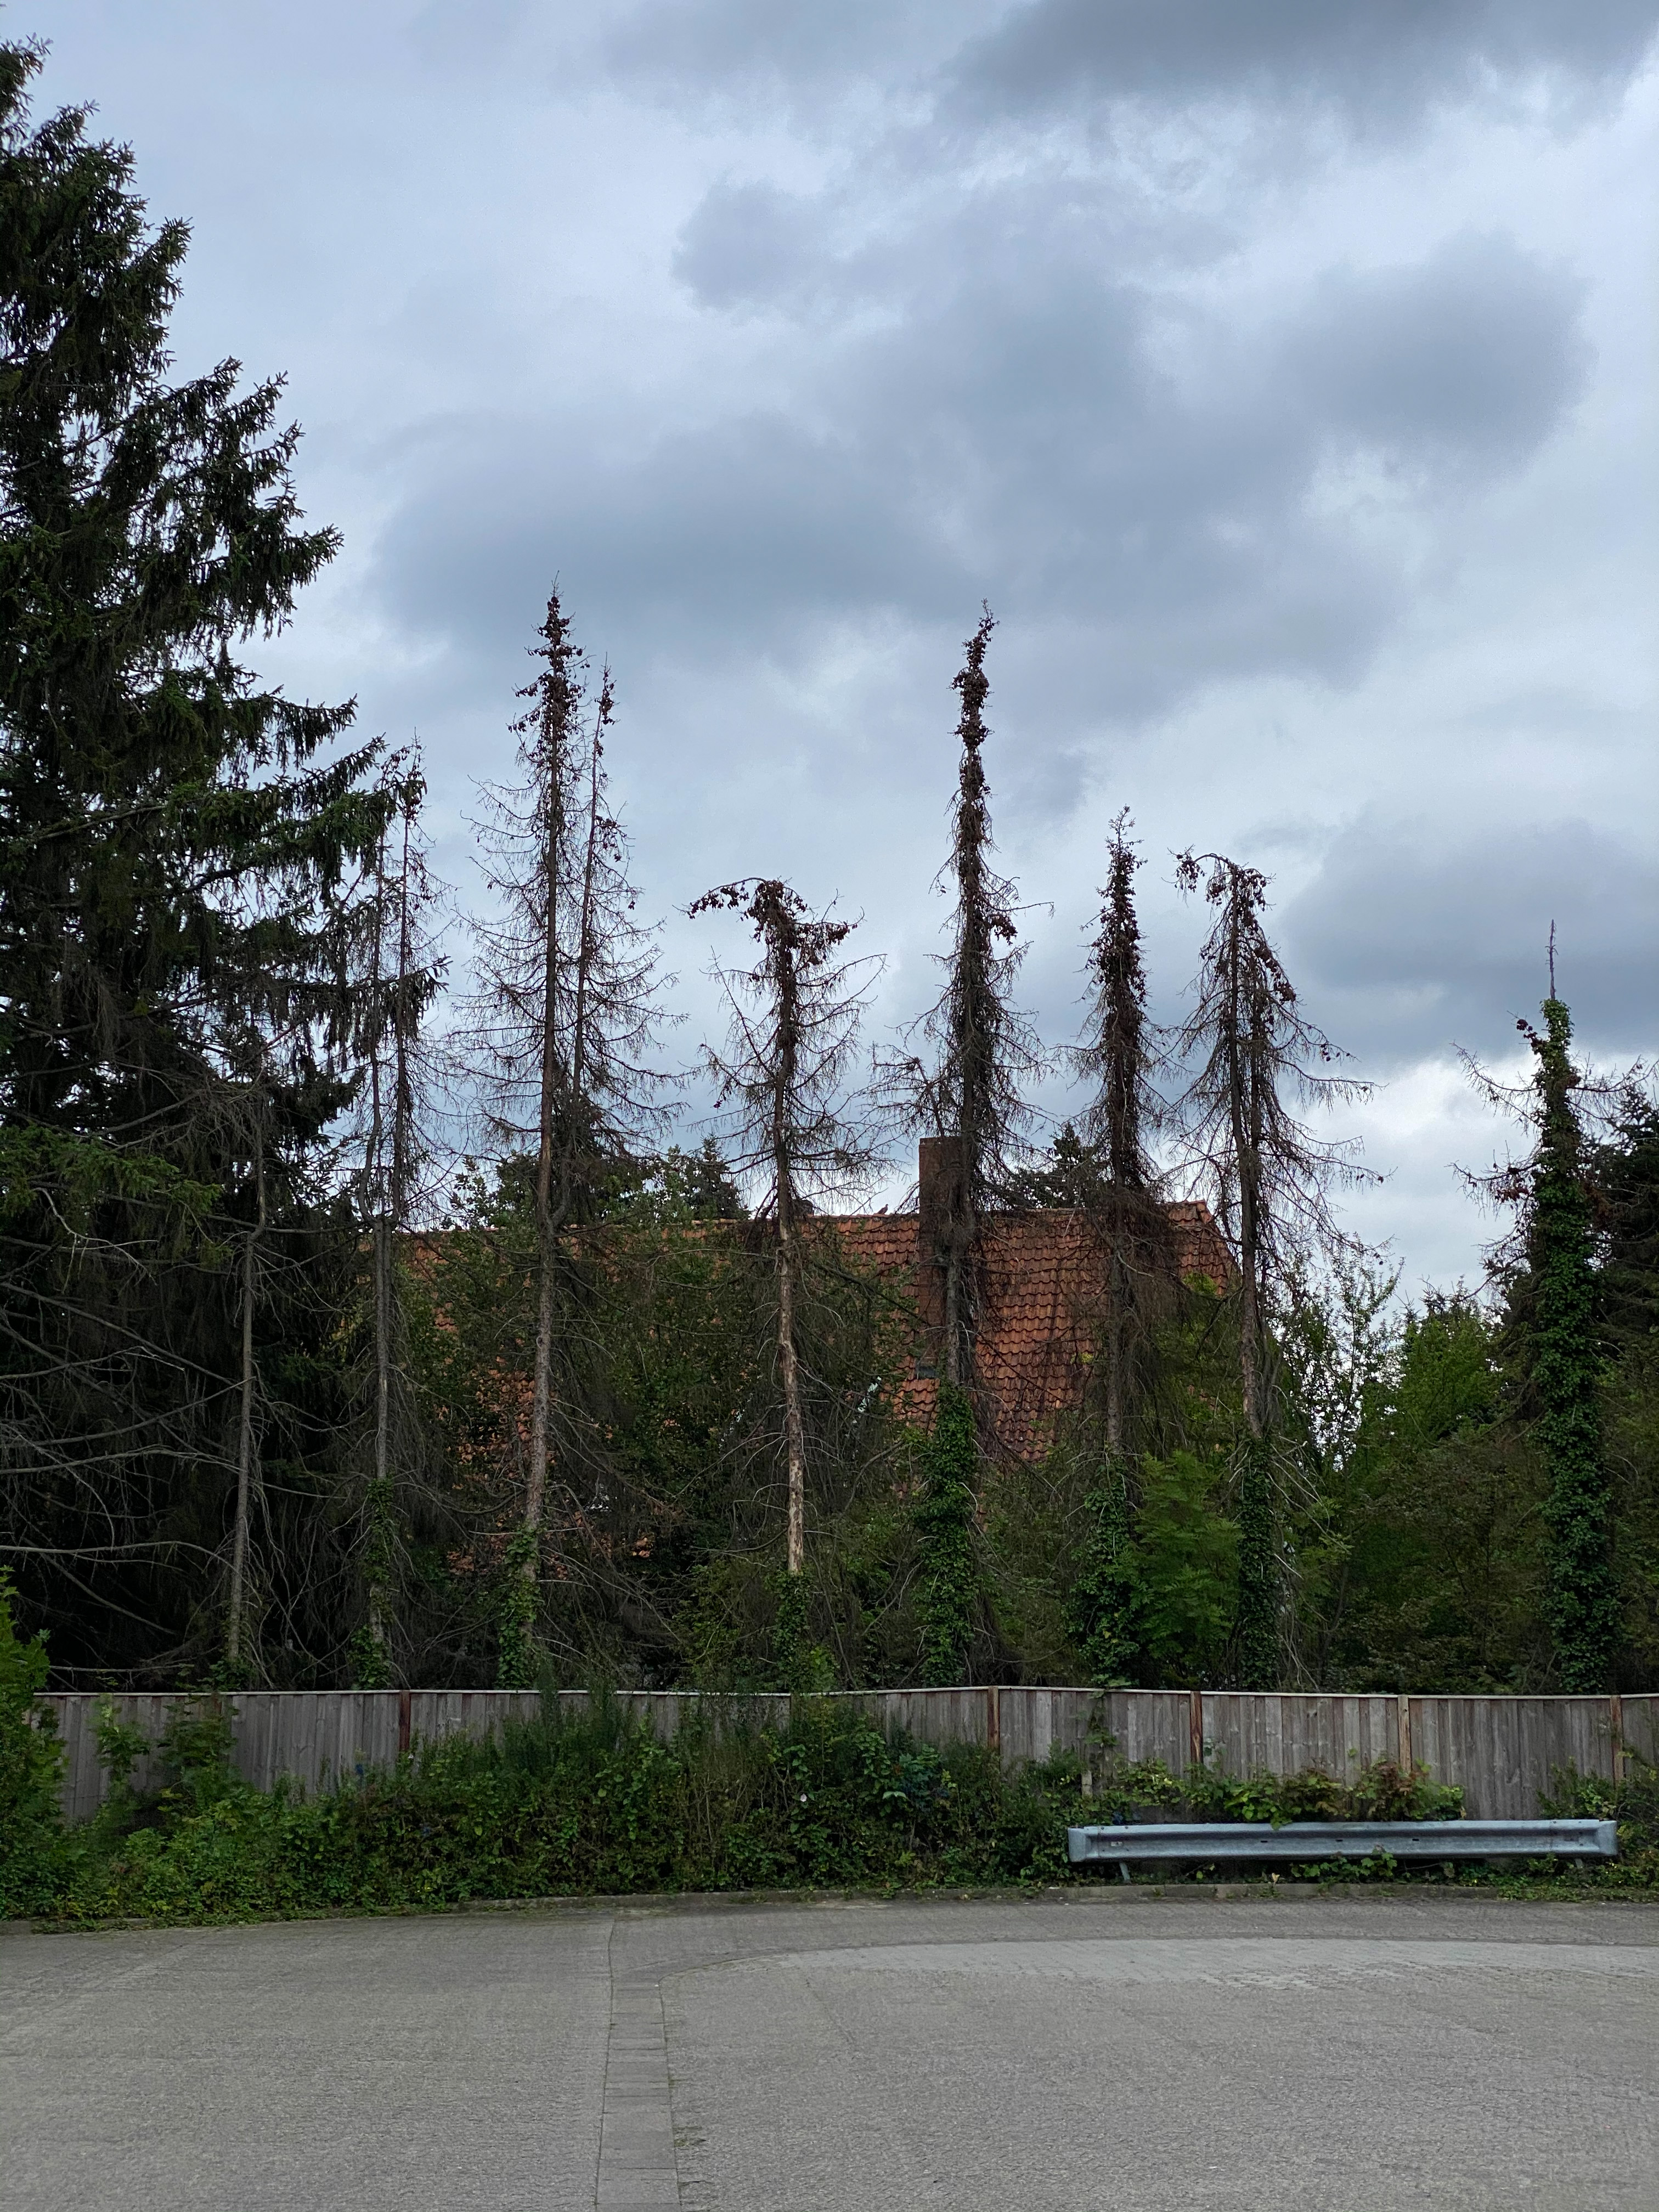tree: (0, 31, 448, 1691), (427, 1052, 934, 1663), (446, 571, 692, 1691), (861, 597, 1058, 1688), (678, 876, 929, 1683), (1169, 843, 1389, 1686), (1450, 920, 1656, 1696), (317, 752, 460, 1696), (1056, 803, 1180, 1688), (171, 1089, 347, 1686), (1331, 1275, 1509, 1637), (1476, 1103, 1659, 1421)
